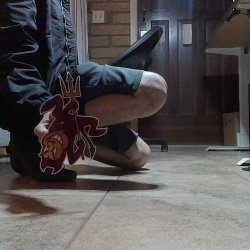sparky: (36, 71, 107, 174)
